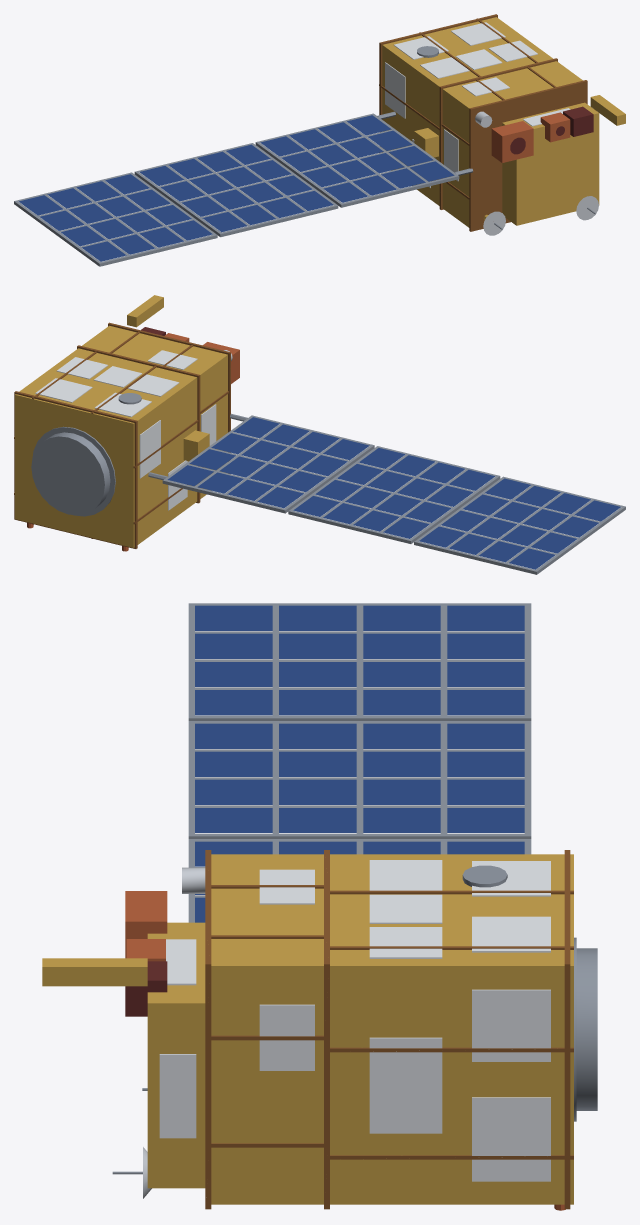
The model's file is cbers-4.glb.
3 renders of one model, top to bottom at view 1: azimuth 30°, elevation 25°; view 2: azimuth 150°, elevation 25°; view 3: azimuth 270°, elevation 25°, orthographic. The views are drawn at different scales.
Visible parts, largest first — view 1: foil, solar-panel, body; view 2: solar-panel, foil, body; view 3: foil, body, solar-panel.
Boxes of the visible parts, x1,y1,x2,y2 form: foil: [379, 14, 625, 231]; solar-panel: [19, 111, 472, 261]; body: [14, 22, 598, 266]; solar-panel: [148, 413, 620, 569]; foil: [14, 295, 230, 548]; body: [27, 327, 625, 574]; foil: [42, 850, 573, 1209]; body: [112, 603, 597, 1210]; solar-panel: [195, 605, 524, 922].
Size of the model in its own units: 8.63 by 2.16 by 4.21.
